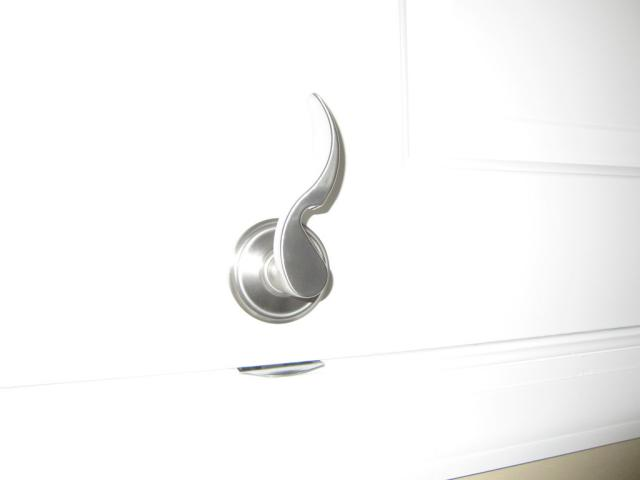Door-handle: (227, 92, 346, 326)
